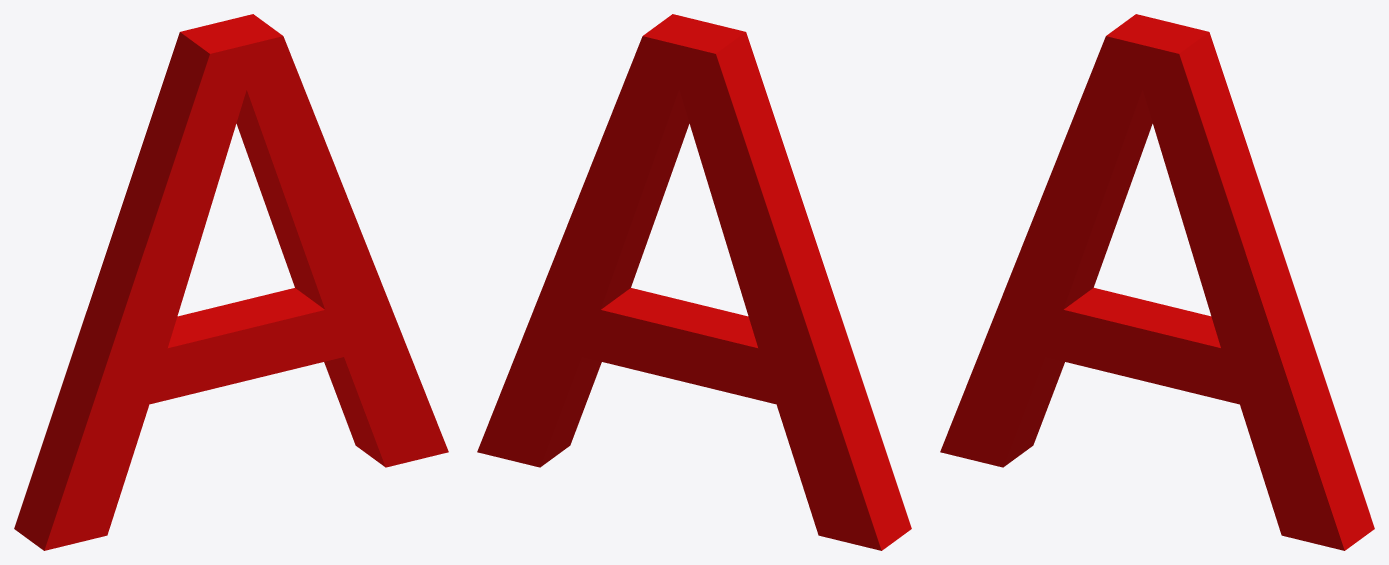
File: original-13.obj
3 views of the same model, side by side, from view 1: azimuth 30°, elevation 25°; view 2: azimuth 150°, elevation 25°; view 3: azimuth 330°, elevation 25° (orthographic).
Parts seen in each view (by area): view 1: mesh16/mesh16-geometry#mesh16-geometry; view 2: mesh16/mesh16-geometry#mesh16-geometry; view 3: mesh16/mesh16-geometry#mesh16-geometry.
Part boxes in pixels (box(x1,y1,x2,y2)): mesh16/mesh16-geometry#mesh16-geometry: box(14, 14, 448, 550); mesh16/mesh16-geometry#mesh16-geometry: box(477, 14, 911, 550); mesh16/mesh16-geometry#mesh16-geometry: box(940, 14, 1374, 550).
Bounding box in the file's own units: 0.00931 × 0.01 × 0.0012.
